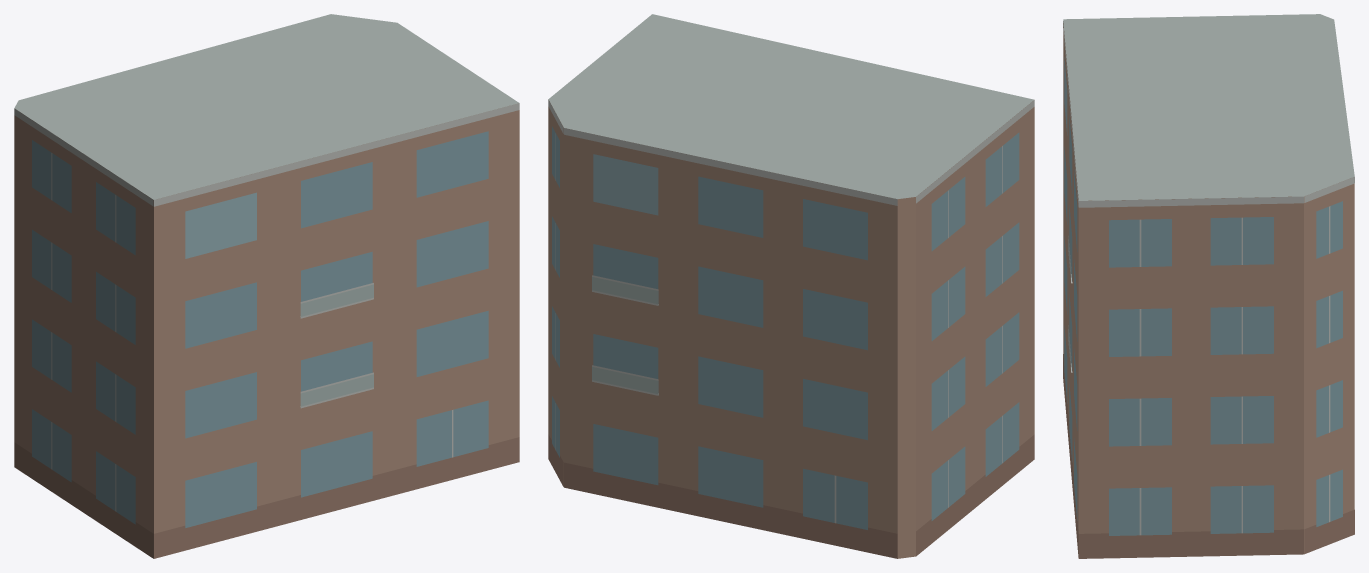
File: survey-upis-32978845.glb
3 views of the same model, side by side, from view 1: azimuth 30°, elevation 25°; view 2: azimuth 150°, elevation 25°; view 3: azimuth 270°, elevation 25° (orthographic).
Parts seen in each view (by area): view 1: survey-upis-32978845.tmp; view 2: survey-upis-32978845.tmp; view 3: survey-upis-32978845.tmp.
Part boxes in pixels (x1=…): survey-upis-32978845.tmp: x1=14, y1=14, x2=519, y2=558; survey-upis-32978845.tmp: x1=548, y1=14, x2=1034, y2=558; survey-upis-32978845.tmp: x1=1063, y1=14, x2=1354, y2=558.
Bounding box in the file's own units: 14.35 × 12.8 × 9.46.
